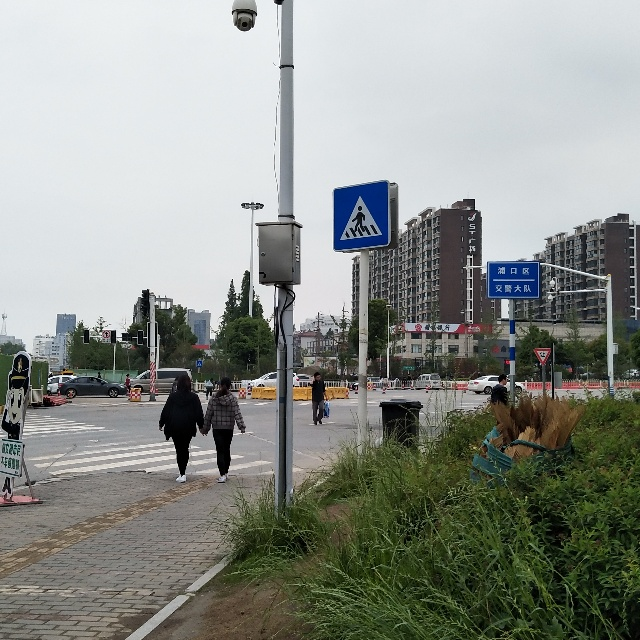crosswalk: (334, 188, 385, 242)
